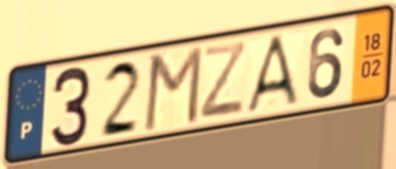2: (96, 57, 145, 137)
3: (47, 62, 94, 149)
6: (307, 27, 346, 101)
A: (243, 32, 303, 117)
M: (140, 42, 205, 134)
Z: (197, 38, 248, 122)
